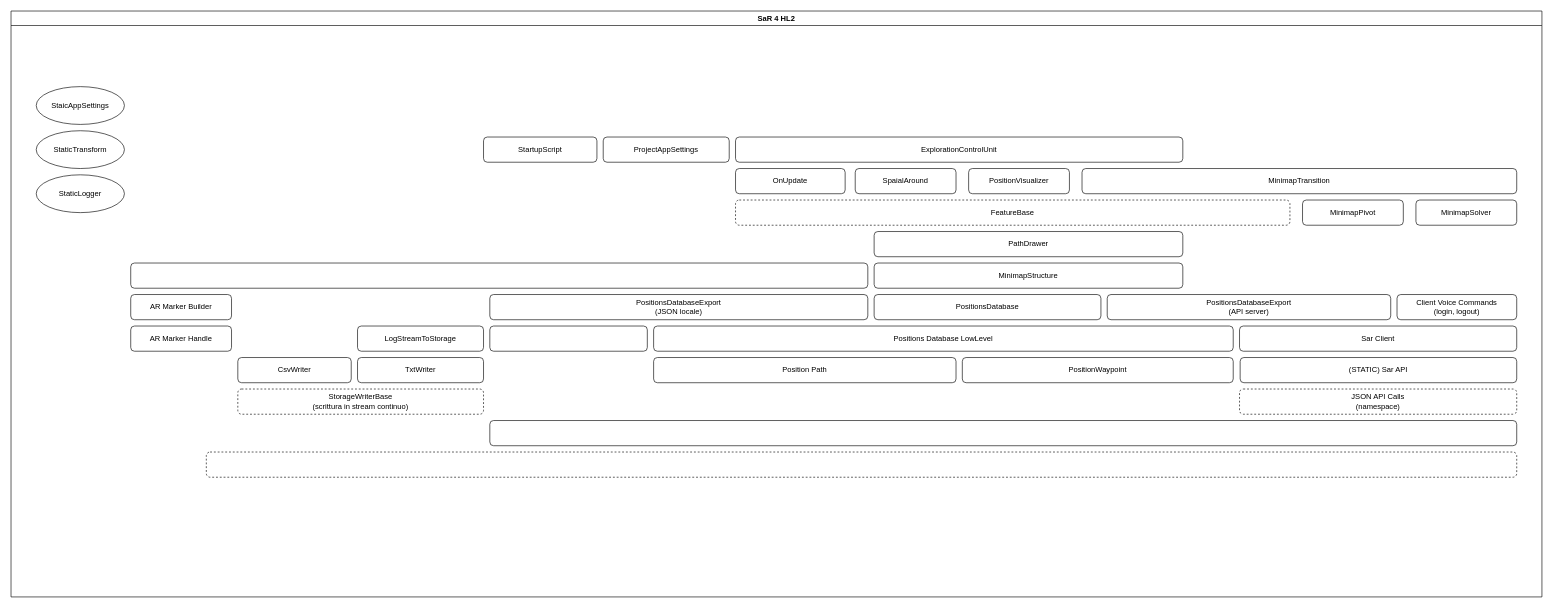
This 1553x608 diagram has some shape labels left out. Each missing label, with the centre of its shape:
CalibrationUtility: pixel 1003 433
ProjecMonoBehaviour: pixel 861 464
Storage Hub Oneshot (lettura scrittura oneshot): pixel 568 338
WaypointHandle: pixel 499 275
